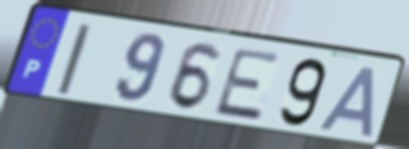6: (165, 41, 222, 113)
9: (112, 31, 167, 108), (278, 57, 329, 128)
A: (316, 64, 378, 140)
E: (210, 46, 285, 124)
I: (54, 22, 94, 98)
